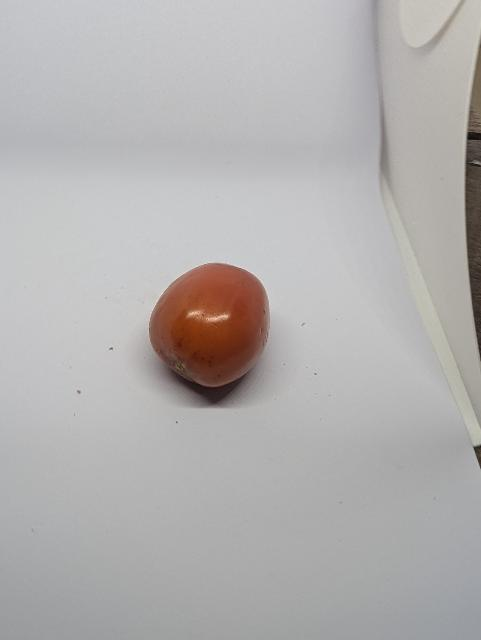red: (148, 260, 275, 389)
